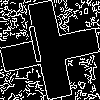I: (25, 25, 48, 73)
